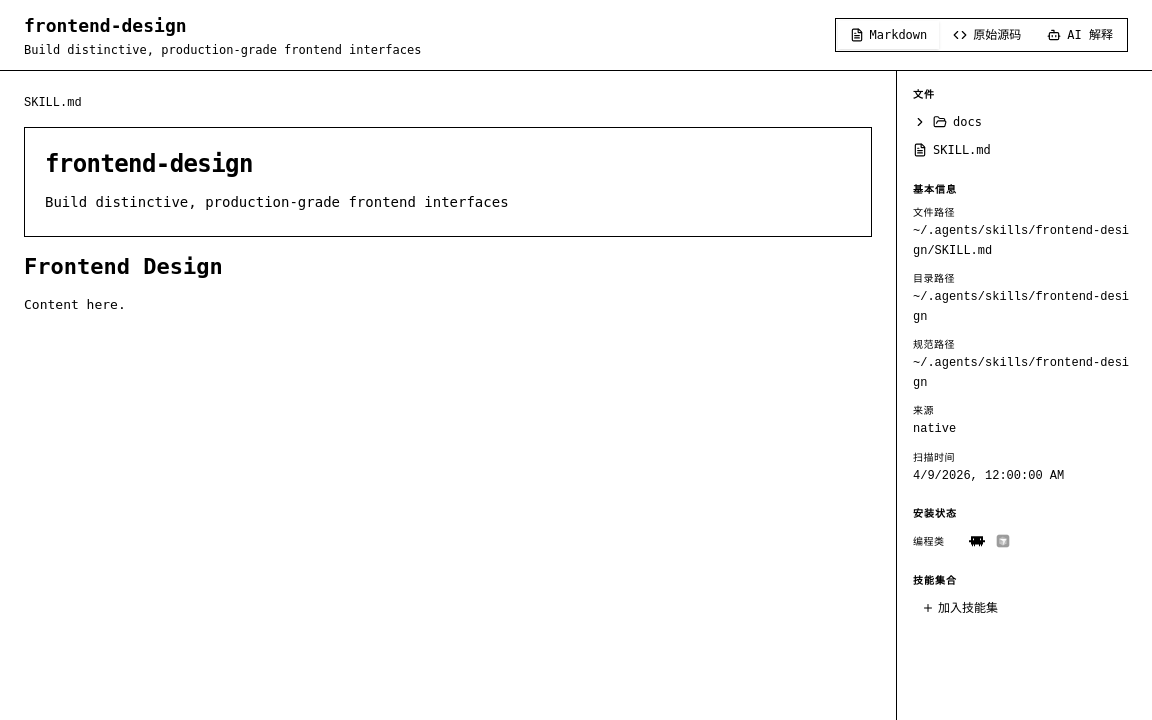
Scenario: SkillDetailView › switches preview when a non-markdown file is selected from the file tree
Click the button "docs" at x=1024, y=122, box [913,110,1136,134]
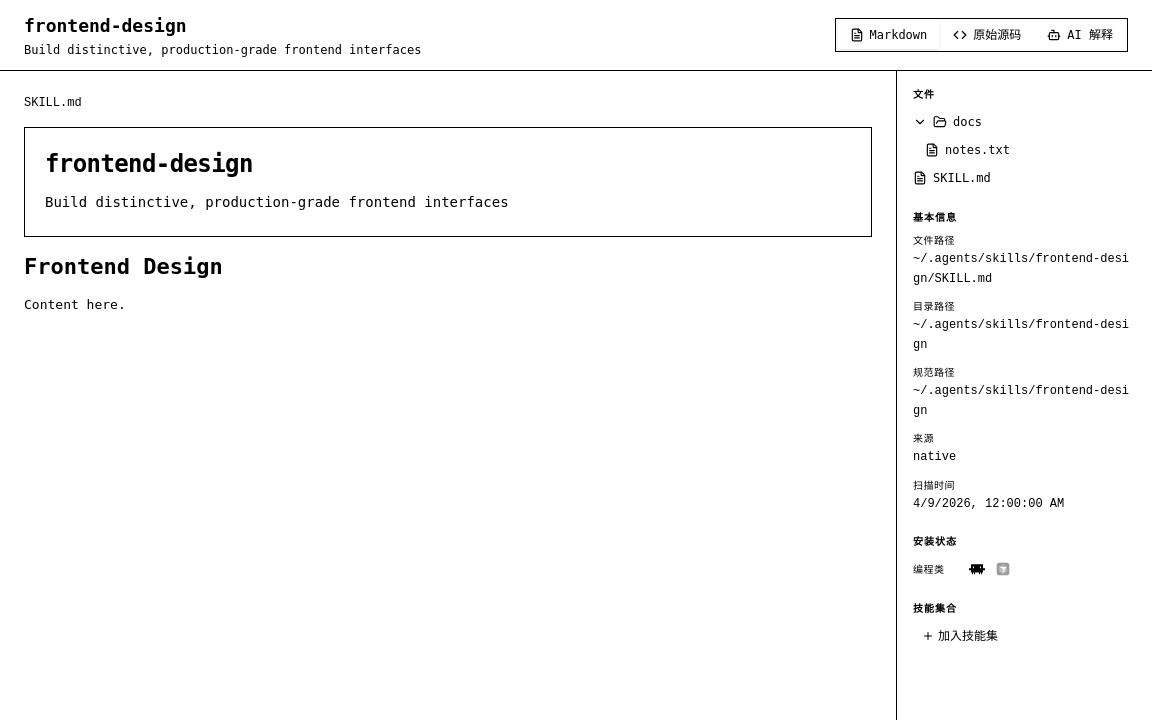
Click the button "notes.txt" at x=1024, y=150, box [913,138,1136,162]
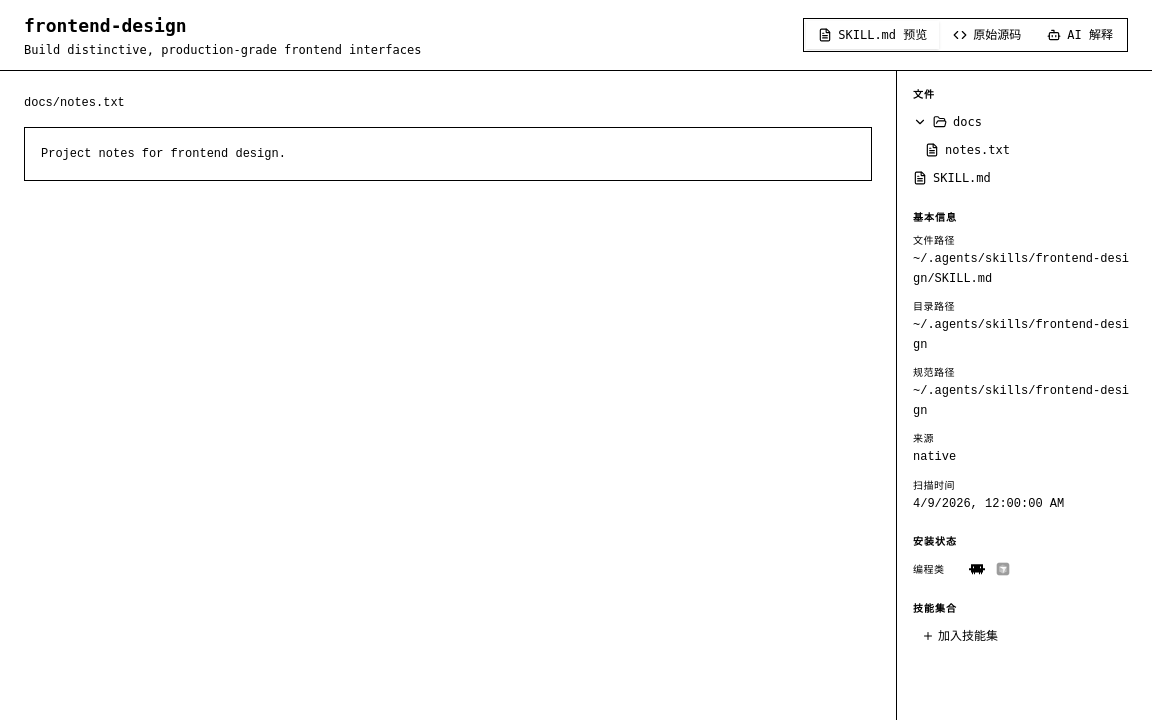
Expected: the tab "SKILL.md 预览" is shown, [806,21,939,49]
Expected: the text "Project notes for frontend design." is shown, [24,127,872,181]
Expected: the text "docs/notes.txt" is shown, [24,96,125,110]
